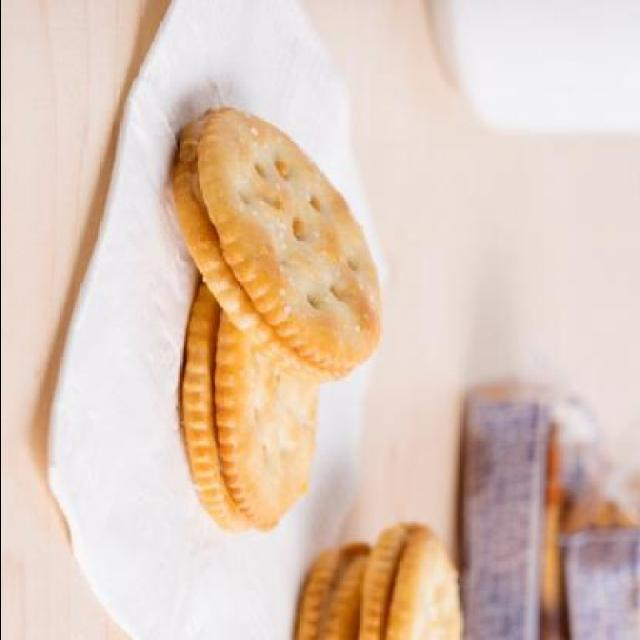Ritz cracker packaged: (154, 106, 392, 392)
